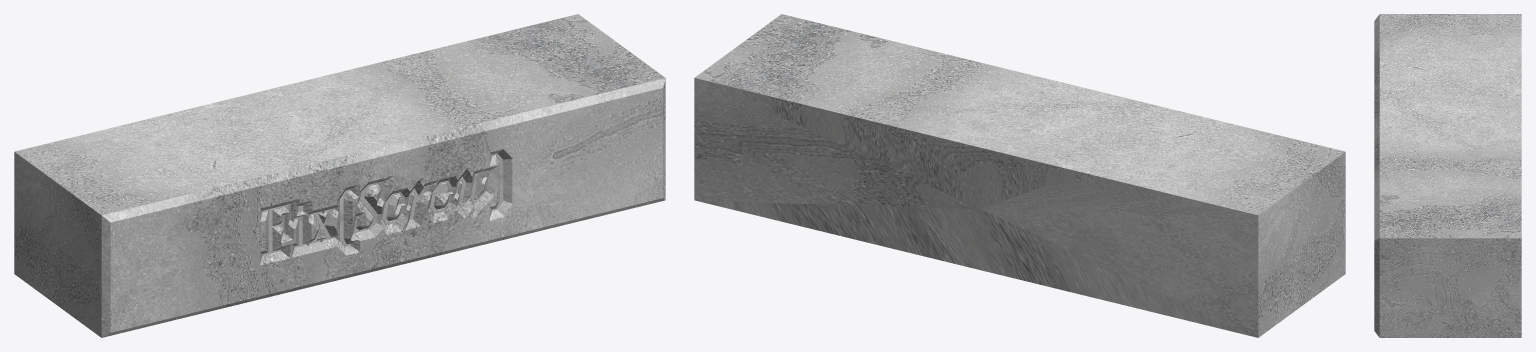
Rendered from screw.gltf.
3 views of the same model, side by side, from view 1: azimuth 30°, elevation 25°; view 2: azimuth 150°, elevation 25°; view 3: azimuth 270°, elevation 25° (orthographic). The views are drawn at different scales.
Visible parts, largest first — view 1: Mesh_0.010; view 2: Mesh_0.010; view 3: Mesh_0.010.
Boxes of the visible parts, x1,y1,x2,y2 form: Mesh_0.010: (14, 14, 665, 337); Mesh_0.010: (694, 14, 1345, 337); Mesh_0.010: (1374, 14, 1521, 337).
Bounding box in the file's own units: 0.3459 × 0.0718 × 0.0962.
Materials: 1 (1 with a texture image).
